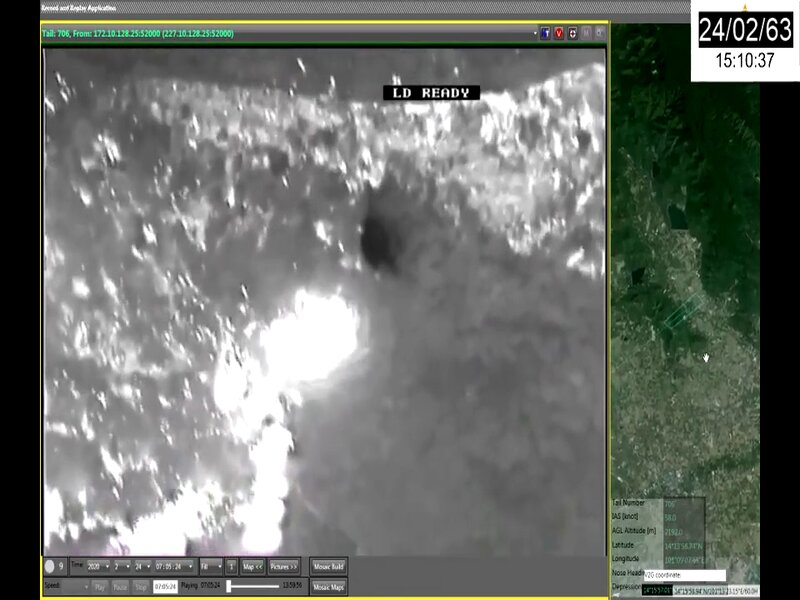Fire: (109, 285, 364, 555)
